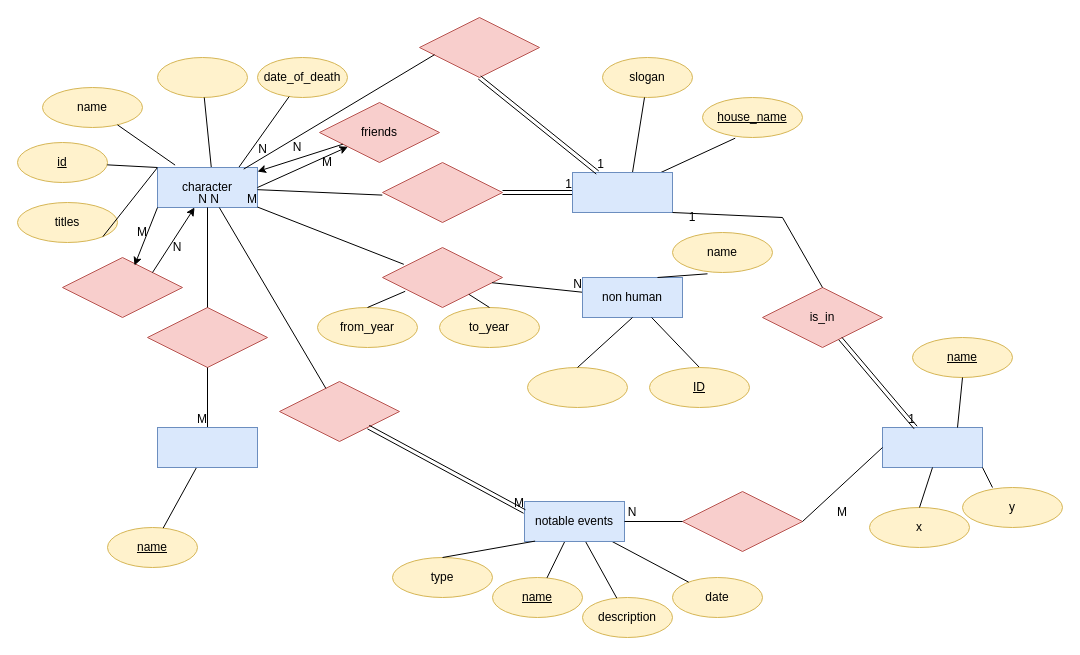
This 1080x655 diagram has some shape labels left out. Each missing label, with the centre of its shape:
belongs to: pixel 442 192
date_of_birth: pixel 202 77
happened_at: pixel 742 521
has_religions: pixel 207 337
house: pixel 622 192
leadership: pixel 479 47
location: pixel 932 447
owns: pixel 442 277
participates in: pixel 339 411
relatives: pixel 122 287
religion: pixel 207 447
species: pixel 577 387
